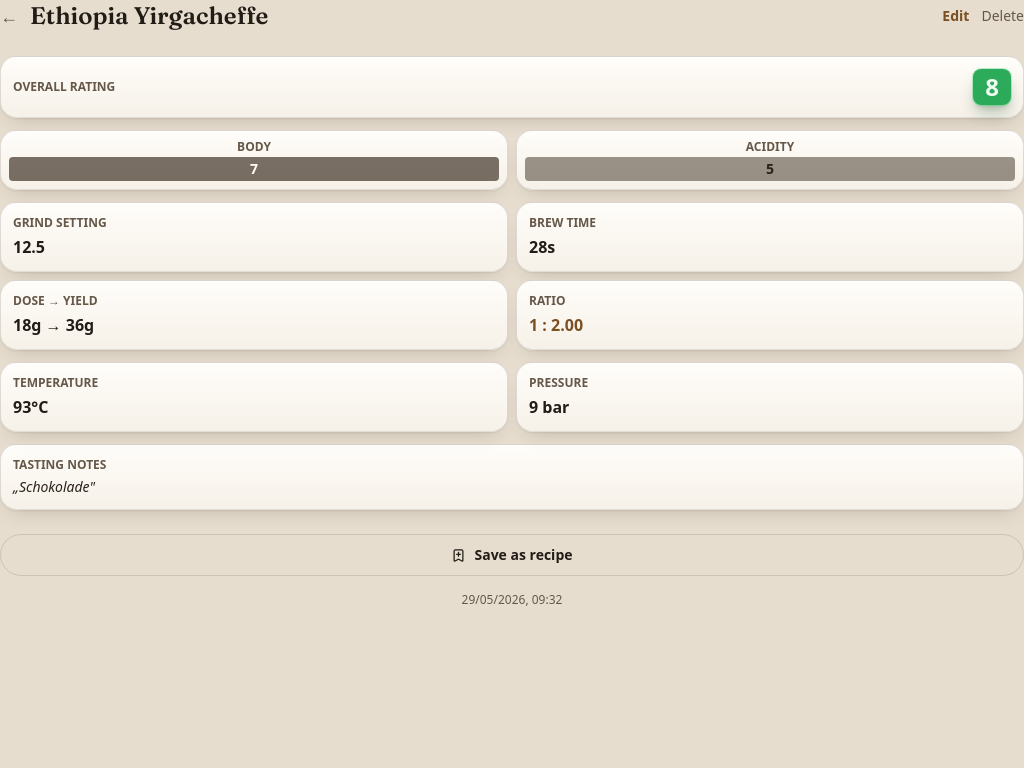
Test: shows edit form after clicking Edit
Click the button "Edit": (956, 16) [942, 6, 970, 26]
(page scrolled)
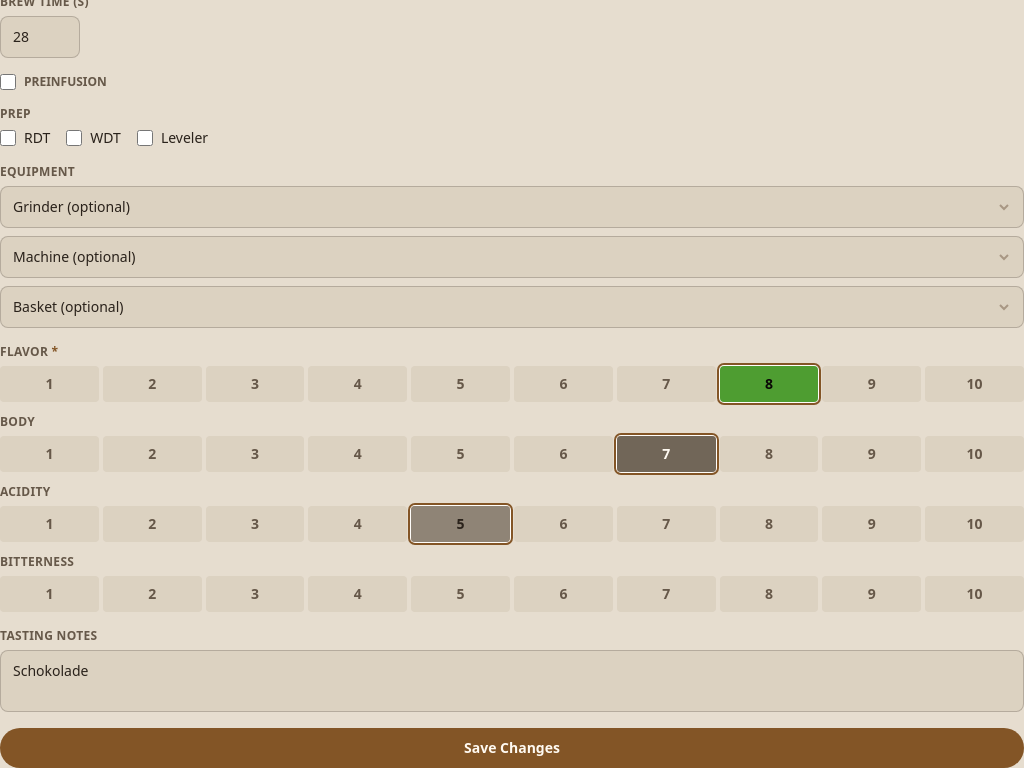
Check: the button "Save Changes" is shown, box [0, 728, 1023, 767]
